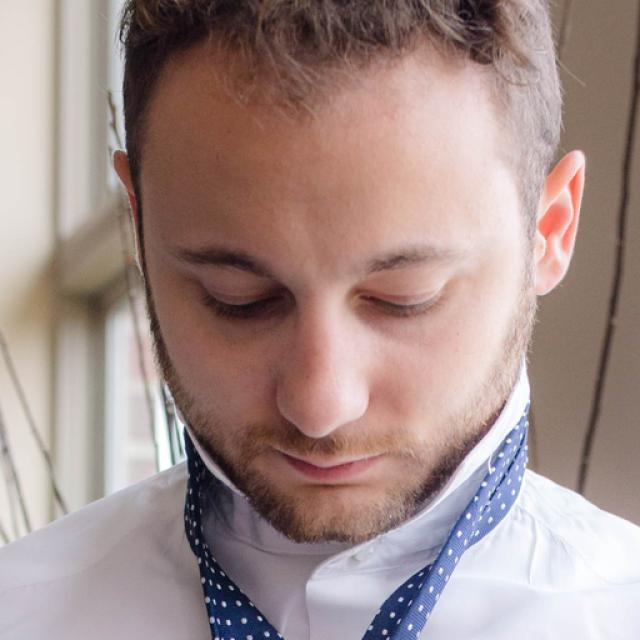sad: (152, 54, 526, 550)
